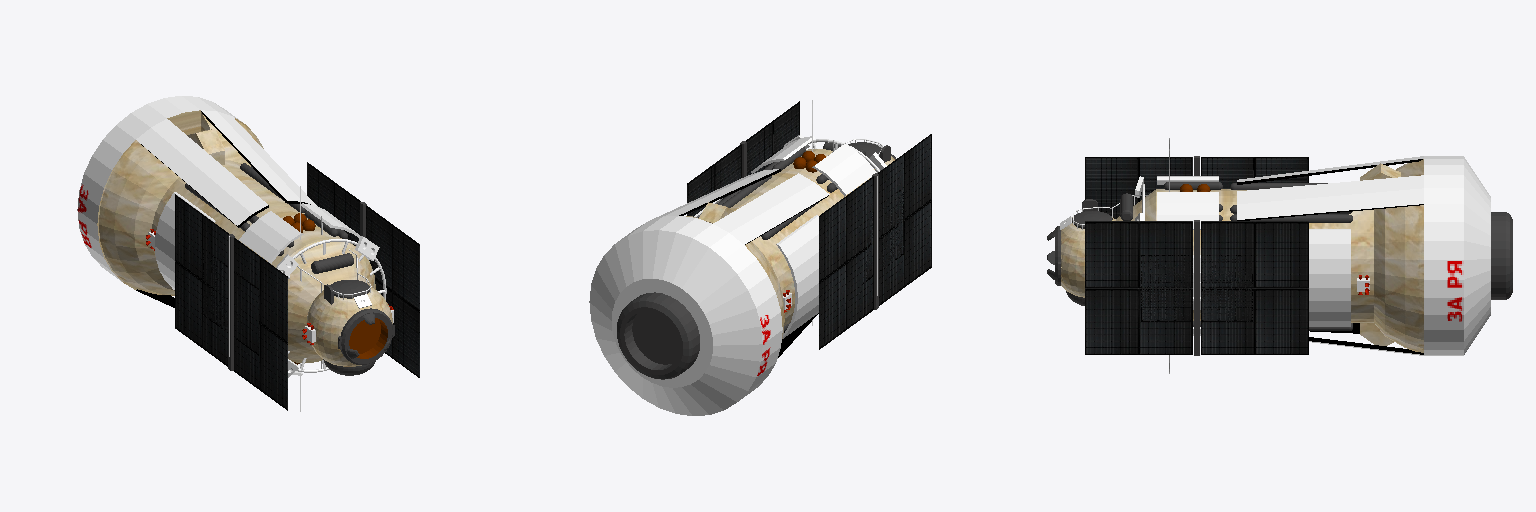
The picture shows the model from 3 angles: view 1: azimuth 30°, elevation 25°; view 2: azimuth 150°, elevation 25°; view 3: azimuth 270°, elevation 25°; orthographic projection.
Parts seen in each view (by area): view 1: obj1, obj28, obj7, obj3, obj25, obj4, obj2; view 2: obj1, obj28, obj3, obj7, obj25, obj4; view 3: obj1, obj7, obj28, obj3, obj12, obj4.
Boxes of the visible parts, x1=… form: obj1: x1=77, y1=96, x2=393, y2=375; obj28: x1=175, y1=194, x2=287, y2=410; obj7: x1=307, y1=162, x2=419, y2=377; obj3: x1=185, y1=163, x2=394, y2=375; obj25: x1=203, y1=249, x2=258, y2=355; obj4: x1=276, y1=186, x2=386, y2=411; obj2: x1=283, y1=213, x2=387, y2=364; obj1: x1=589, y1=136, x2=894, y2=415; obj28: x1=819, y1=134, x2=931, y2=349; obj3: x1=617, y1=142, x2=895, y2=379; obj7: x1=687, y1=101, x2=799, y2=216; obj25: x1=863, y1=190, x2=903, y2=283; obj4: x1=783, y1=100, x2=886, y2=325; obj1: x1=1061, y1=156, x2=1490, y2=355; obj7: x1=1085, y1=221, x2=1308, y2=354; obj28: x1=1085, y1=157, x2=1308, y2=218; obj3: x1=1047, y1=182, x2=1512, y2=330; obj12: x1=1141, y1=255, x2=1252, y2=321; obj4: x1=1060, y1=138, x2=1169, y2=373.
Size of the model in its own units: 4.6 by 5.73 by 10.68.
Materials: 7 (2 with a texture image).